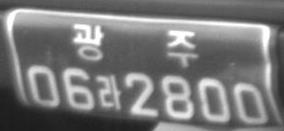0: (231, 80, 270, 125), (26, 63, 61, 108), (197, 76, 230, 123)
2: (124, 70, 159, 116)
6: (62, 65, 96, 111)
8: (161, 74, 196, 121)
광주_D: (72, 22, 199, 68)
라: (96, 72, 122, 110)
